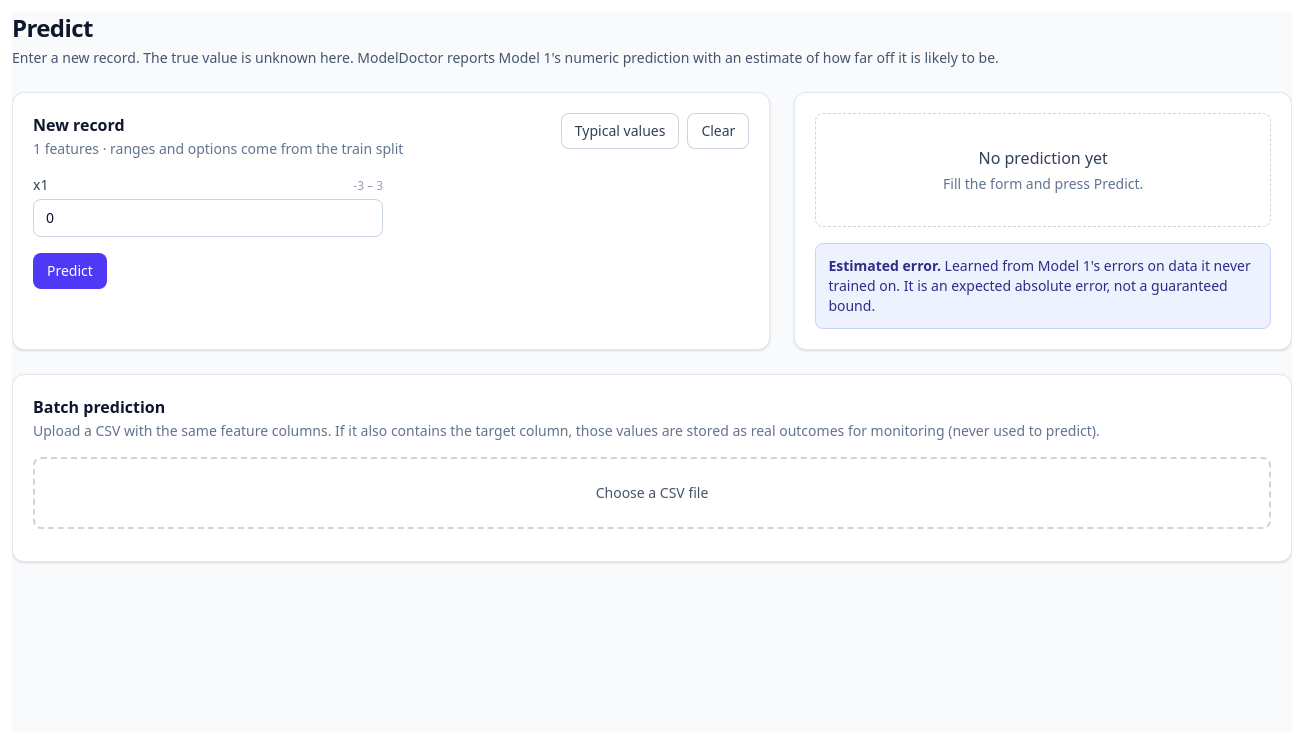
Test: regression prediction › handles a missing error estimate gracefully
Click the button "Predict" at (70, 271), box 33,253 -> 107,289
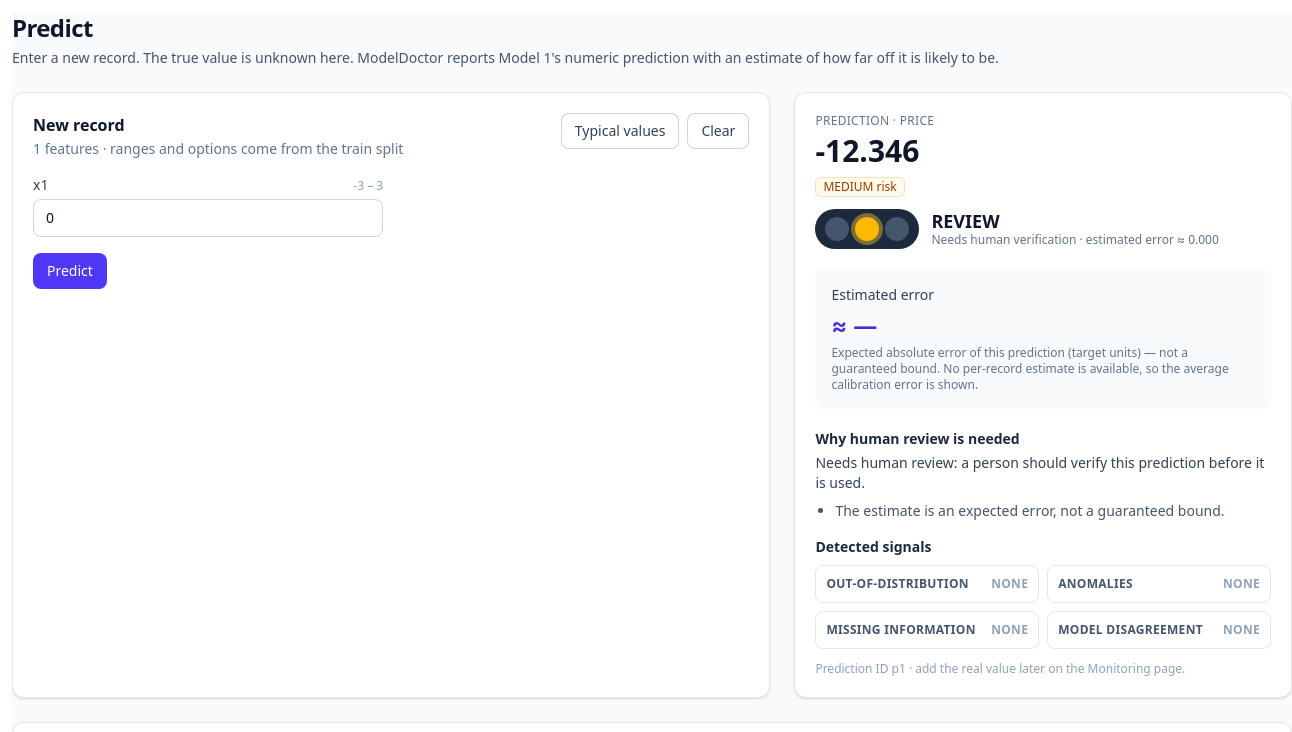
Expected: the text with test id "reg-error" shows "—", 853,308 -> 877,341
Expected: the text "average calibration error" is shown, 831,360 -> 1229,393
